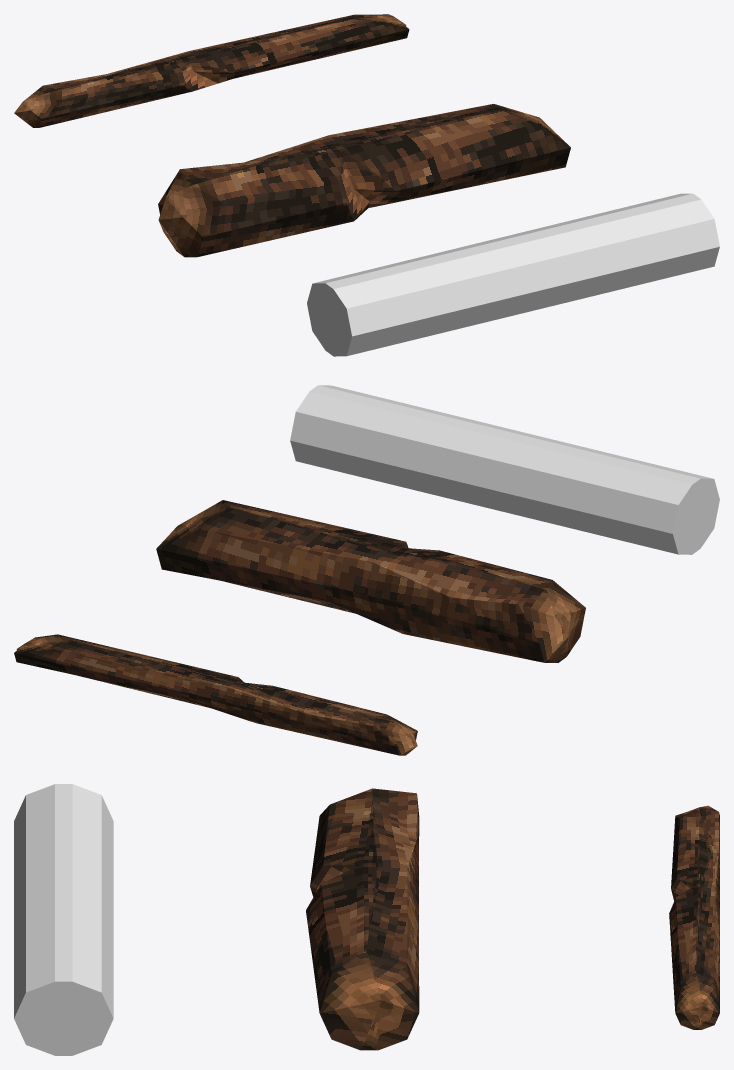
Rendered from wooden_logs_set_1.fbx.
3 views of the same model, one above another, from view 1: azimuth 30°, elevation 25°; view 2: azimuth 150°, elevation 25°; view 3: azimuth 270°, elevation 25° (orthographic). The views are drawn at different scales.
Visible parts, largest first — view 1: wooden_log_3, wooden_log_2, wooden_log_1; view 2: wooden_log_3, wooden_log_2, wooden_log_1; view 3: wooden_log_2, wooden_log_3, wooden_log_1.
Part boxes in pixels (x1,y1,x2,y2): wooden_log_3: [307, 193, 719, 356]; wooden_log_2: [158, 104, 570, 257]; wooden_log_1: [14, 14, 409, 127]; wooden_log_3: [290, 385, 719, 554]; wooden_log_2: [156, 500, 585, 662]; wooden_log_1: [14, 634, 417, 755]; wooden_log_2: [306, 788, 419, 1050]; wooden_log_3: [14, 784, 113, 1055]; wooden_log_1: [669, 805, 719, 1029].
Size of the model in its own units: 92.01 by 15.73 by 130.
